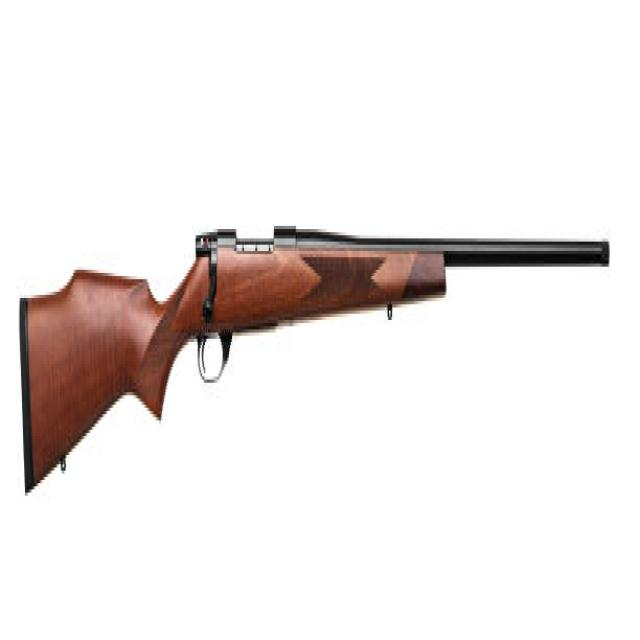rifle: (17, 221, 618, 516)
